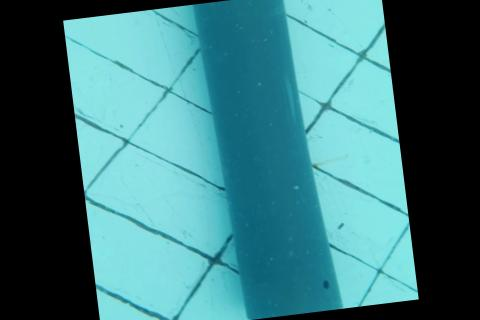kebocoran: (321, 279, 330, 290)
